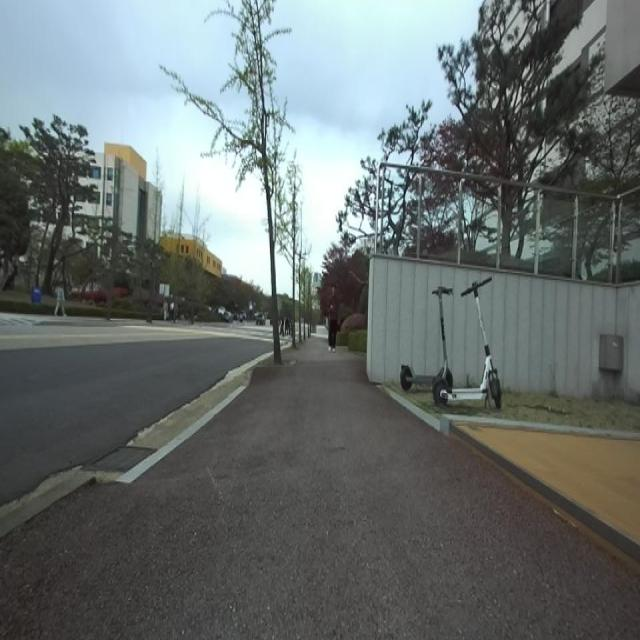sidewalk: (0, 339, 640, 639), (116, 385, 246, 483)
